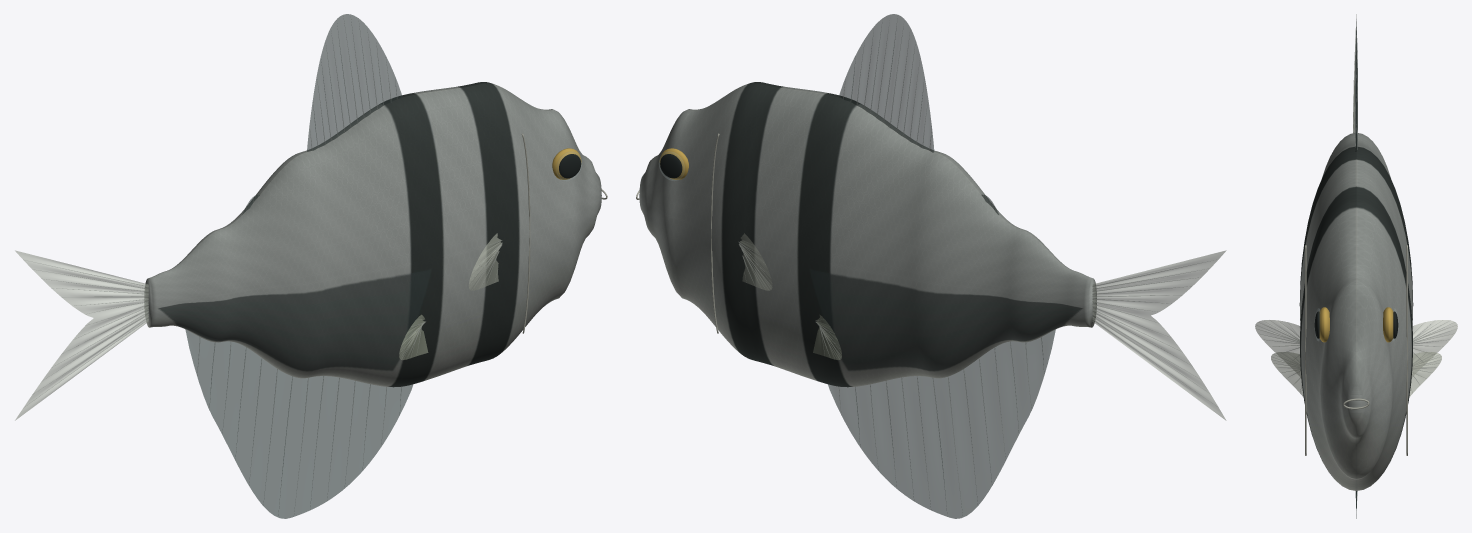
Rendered from blackskirt-desktop.glb.
3 renders of one model, left to right at view 1: azimuth 30°, elevation 25°; view 2: azimuth 150°, elevation 25°; view 3: azimuth 270°, elevation 25°, orthographic. The views are drawn at different scales.
Visible parts, largest first — view 1: skin, anal, tail, dorsal, dorsal-ray, pectoral-left, pelvic-left; view 2: skin, anal, tail, dorsal, dorsal-ray, pectoral-left, pelvic-left; view 3: skin, pectoral-left, pelvic-left, dorsal-ray, operculum, eye-iris--1, dorsal, eye-pupil--1.
Part boxes in pixels (bbox=[...]): skin: bbox=[144, 82, 601, 387]; anal: bbox=[185, 329, 412, 518]; tail: bbox=[15, 250, 148, 420]; dorsal: bbox=[242, 14, 402, 214]; dorsal-ray: bbox=[34, 16, 502, 516]; pectoral-left: bbox=[469, 233, 501, 290]; pelvic-left: bbox=[399, 315, 428, 359]; skin: bbox=[639, 82, 1096, 387]; anal: bbox=[828, 329, 1055, 518]; tail: bbox=[1092, 250, 1226, 420]; dorsal: bbox=[839, 14, 998, 214]; dorsal-ray: bbox=[738, 18, 1216, 515]; pectoral-left: bbox=[739, 233, 772, 290]; pelvic-left: bbox=[813, 315, 841, 359]; skin: bbox=[1299, 133, 1413, 490]; pectoral-left: bbox=[1255, 320, 1457, 377]; pelvic-left: bbox=[1271, 352, 1441, 396]; dorsal-ray: bbox=[1257, 27, 1456, 508]; operculum: bbox=[1305, 245, 1407, 455]; eye-iris--1: bbox=[1319, 307, 1393, 342]; dorsal: bbox=[1355, 19, 1357, 151]; eye-pupil--1: bbox=[1314, 311, 1398, 338].
Size of the model in its own units: 0.6032 by 0.4812 by 0.1718.
11 materials, 1 textured.
